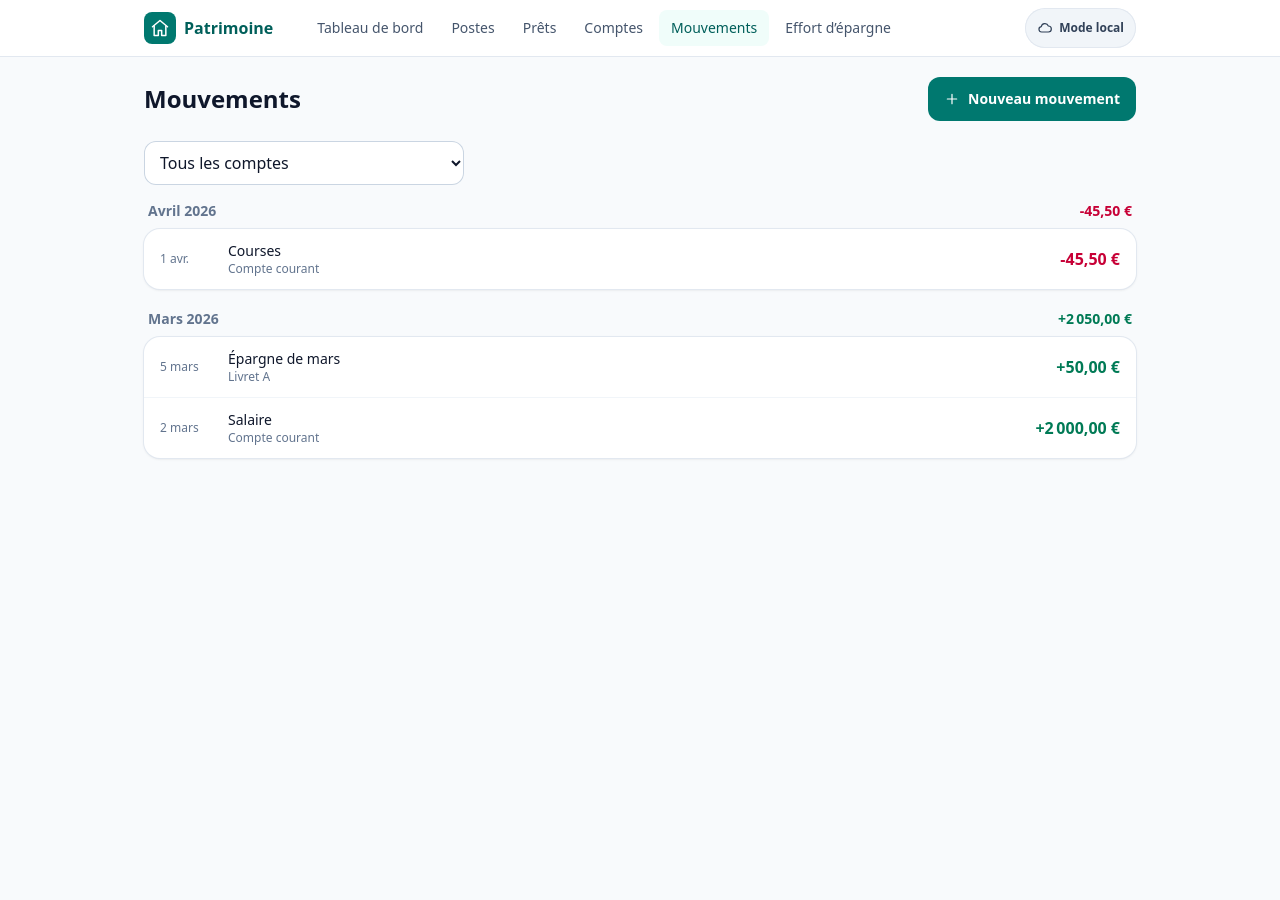
Application › refuse un montant invalide sans fermer le formulaire
This screenshot has width=1280, height=900.
Click the button "Nouveau mouvement" at (1032, 99), box top-left (928, 77), bottom-right (1136, 121)
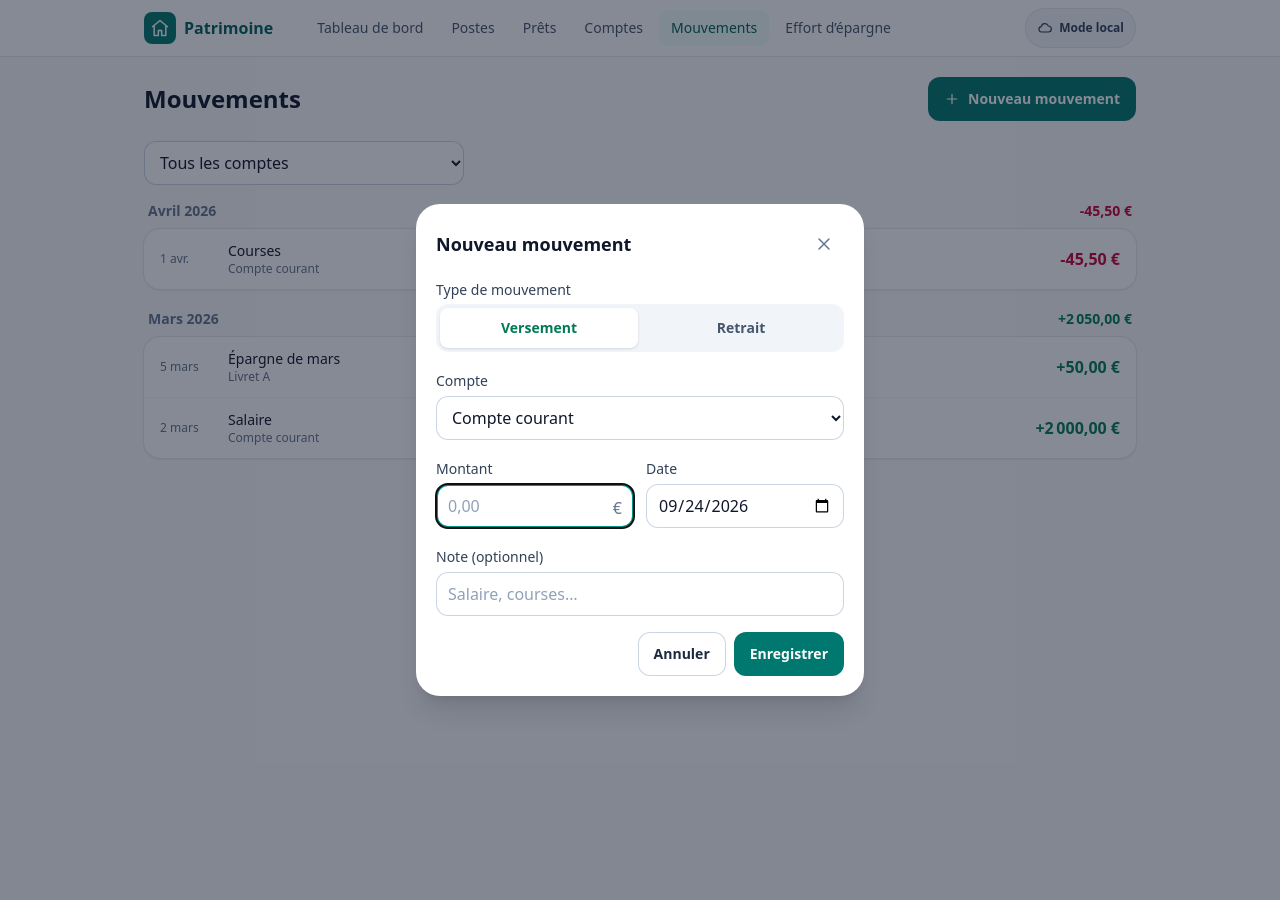
Type "abc" into the field labelled "Montant €" at (535, 506), box top-left (436, 484), bottom-right (634, 528)
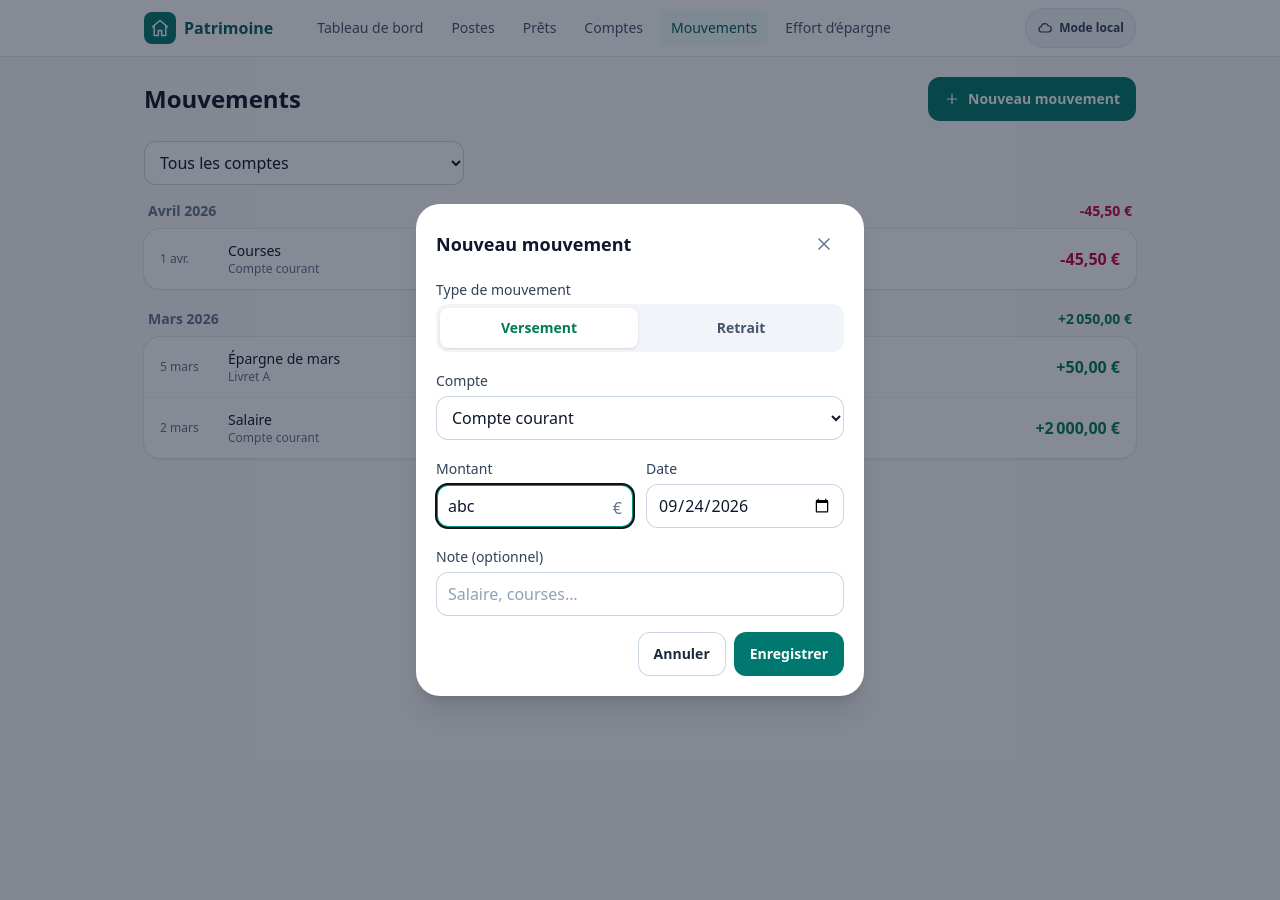
Click the button "Enregistrer" at (789, 654), box top-left (734, 632), bottom-right (844, 676)
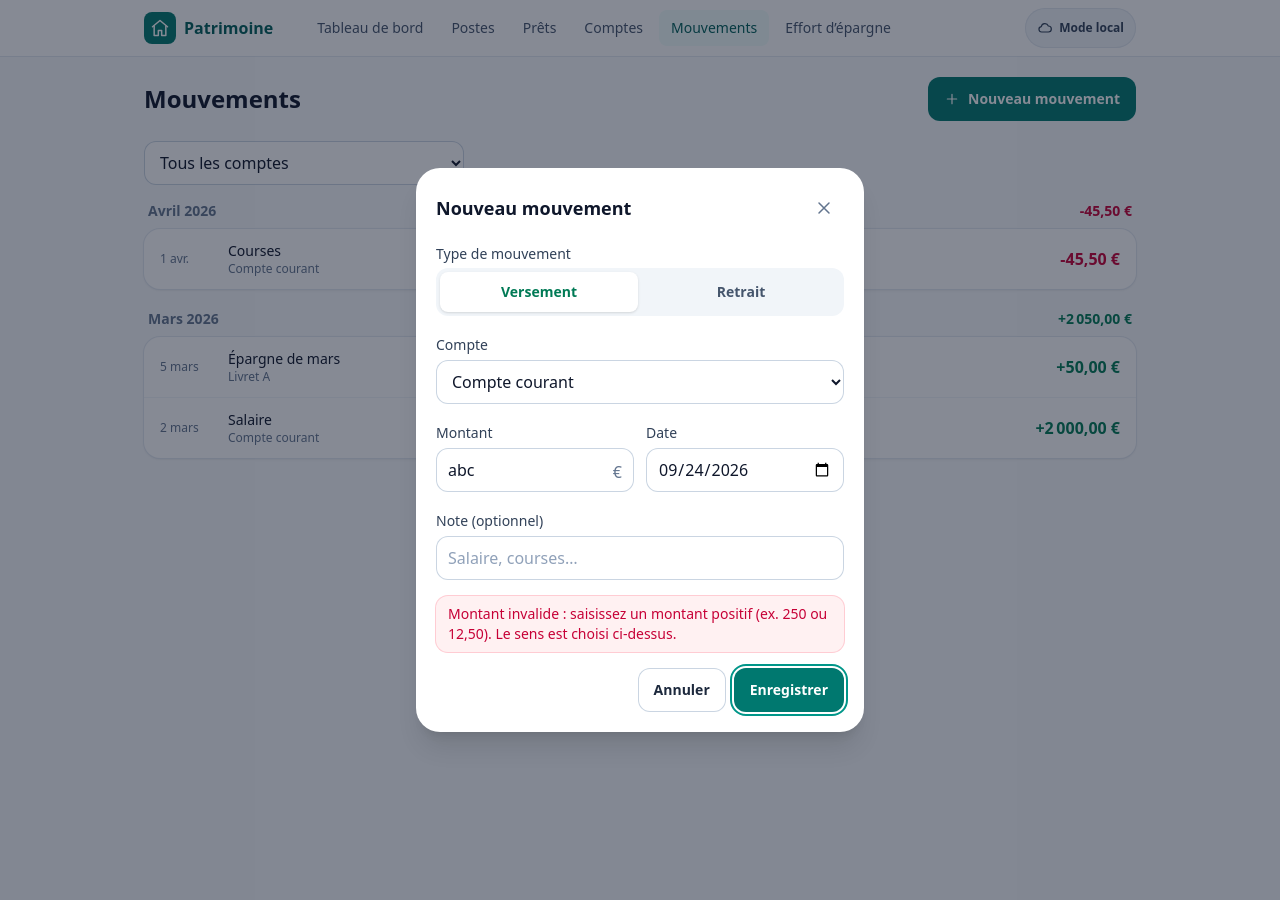
expect the dialog "Nouveau mouvement" is shown: met, box top-left (416, 168), bottom-right (864, 732)
expect the message shows "Montant invalide": met, box top-left (448, 604), bottom-right (827, 643)
